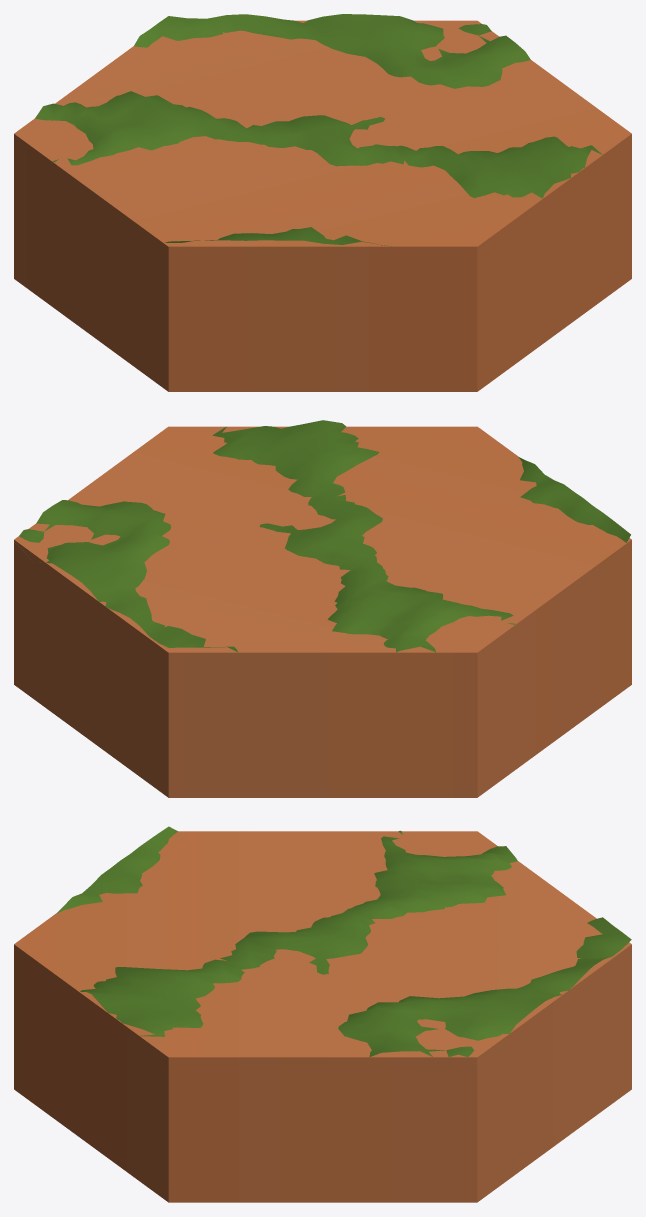
Rendered from Grass_Hex1.fbx.
3 views of the same model, one above another, from view 1: azimuth 30°, elevation 25°; view 2: azimuth 150°, elevation 25°; view 3: azimuth 270°, elevation 25° (orthographic).
Visible parts, largest first — view 1: Ground_Hex1, Grass1; view 2: Ground_Hex1, Grass1; view 3: Ground_Hex1, Grass1.
Boxes of the visible parts, x1,y1,x2,y2 form: Ground_Hex1: [14, 20, 631, 391]; Grass1: [35, 14, 602, 246]; Ground_Hex1: [14, 426, 631, 797]; Grass1: [14, 420, 630, 652]; Ground_Hex1: [14, 831, 631, 1202]; Grass1: [56, 826, 631, 1057].
Bounding box in the file's own units: 20.05 × 6.27 × 23.15.
1 material, 1 textured.
